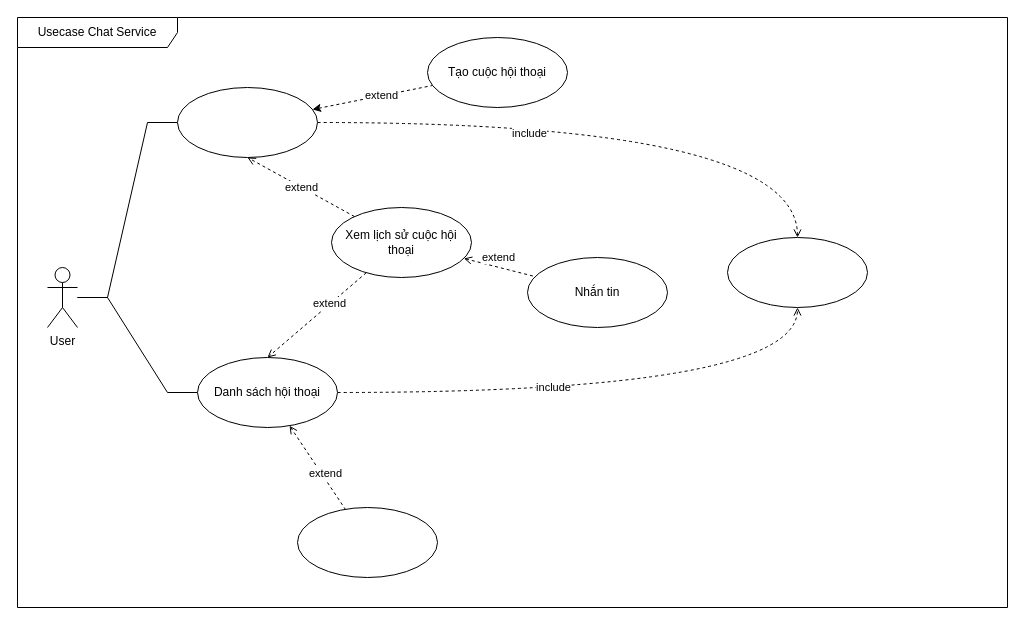
This 1025x625 diagram has some shape labels left out. The shapes that lost their labels are listed below. From the top down, each one's box as (x1, y1, x2, y2) in pixels, then its label:
(176, 86, 318, 158): Tìm kiếm người dùng
(726, 236, 868, 308): Authenticate
(296, 506, 438, 578): Xóa hội thoại
